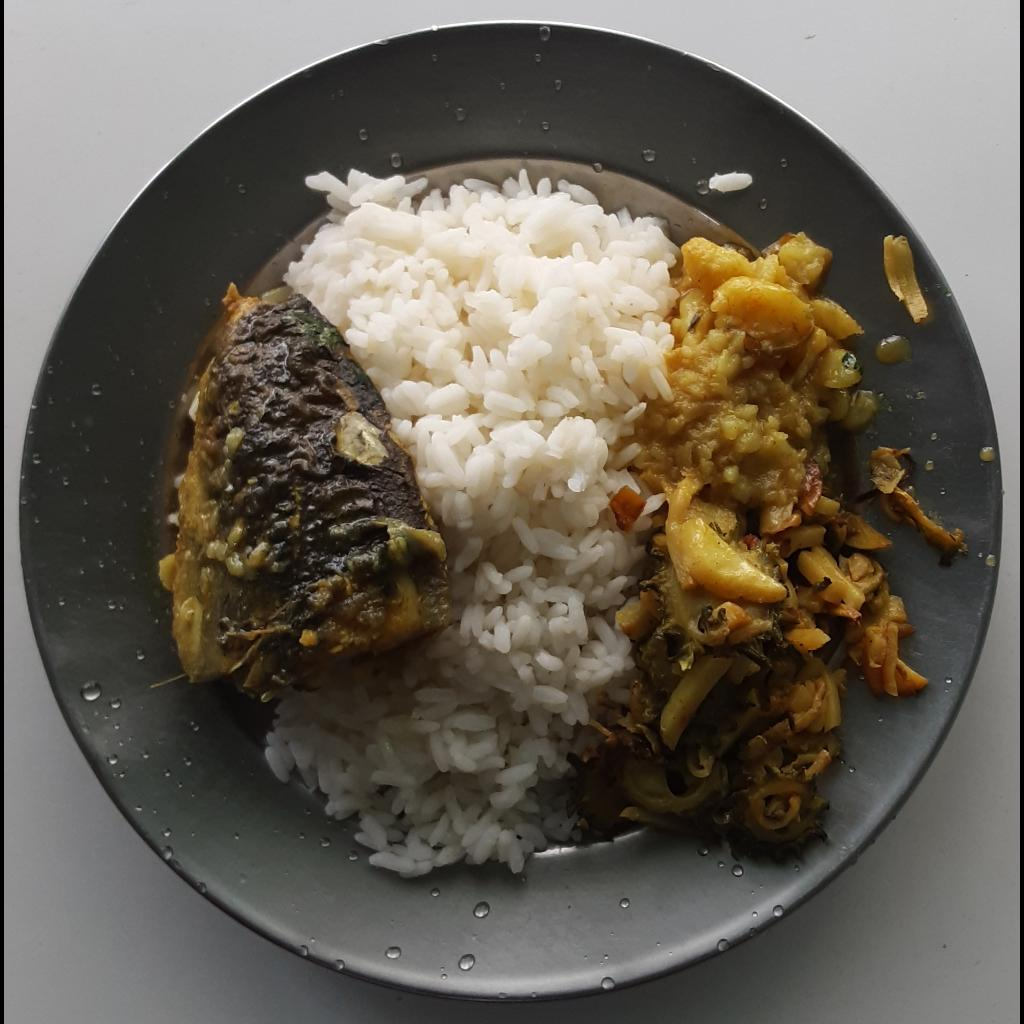daal: (637, 304, 871, 508)
fish: (167, 280, 449, 696)
korola-vaji: (587, 453, 930, 874)
lau: (684, 228, 872, 373)
rice: (268, 164, 683, 882)
